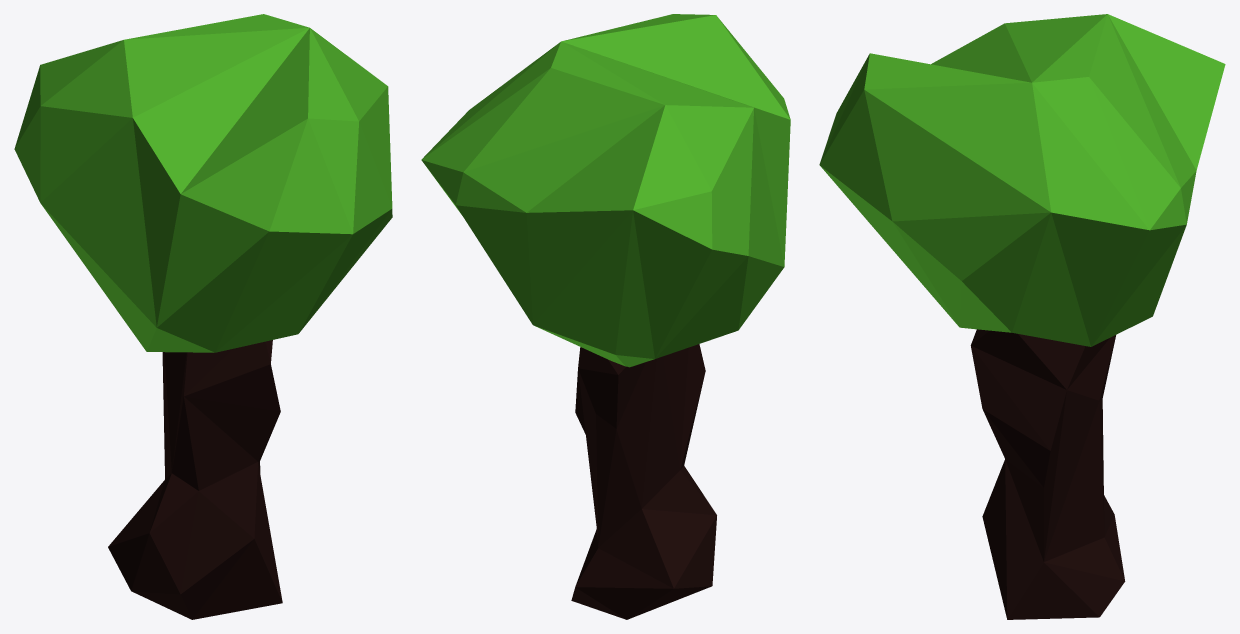
File: Tree prefab.fbx
3 renders of one model, left to right at view 1: azimuth 30°, elevation 25°; view 2: azimuth 150°, elevation 25°; view 3: azimuth 270°, elevation 25°, orthographic. The views are drawn at different scales.
Parts seen in each view (by area): view 1: Box001, Cylinder001; view 2: Box001, Cylinder001; view 3: Box001, Cylinder001.
Part boxes in pixels (left/top/right/bottom): Box001: left=14, top=14, right=392, bottom=352; Cylinder001: left=108, top=340, right=282, bottom=619; Box001: left=421, top=14, right=790, bottom=367; Cylinder001: left=571, top=344, right=716, bottom=619; Box001: left=819, top=14, right=1225, bottom=346; Cylinder001: left=970, top=329, right=1125, bottom=619.
Bounding box in the file's own units: 32.25 × 53.05 × 35.09.
